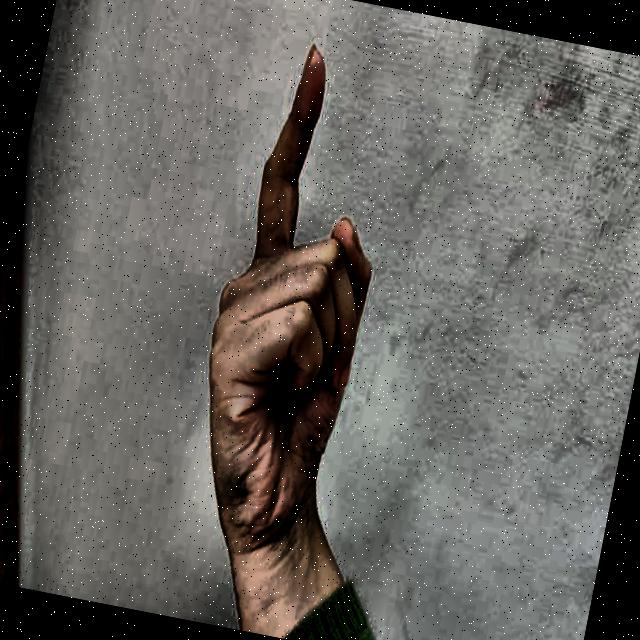U: (144, 4, 436, 564)
